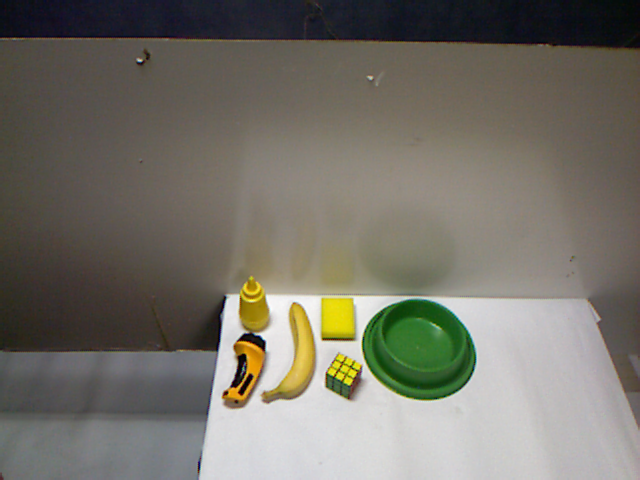cloroplano: (397, 251, 492, 376)
estuche: (311, 299, 406, 362)
mostaza: (371, 327, 414, 393)
pepino: (319, 376, 471, 439)
pescado: (276, 339, 364, 414)
sarten: (190, 291, 322, 437)
